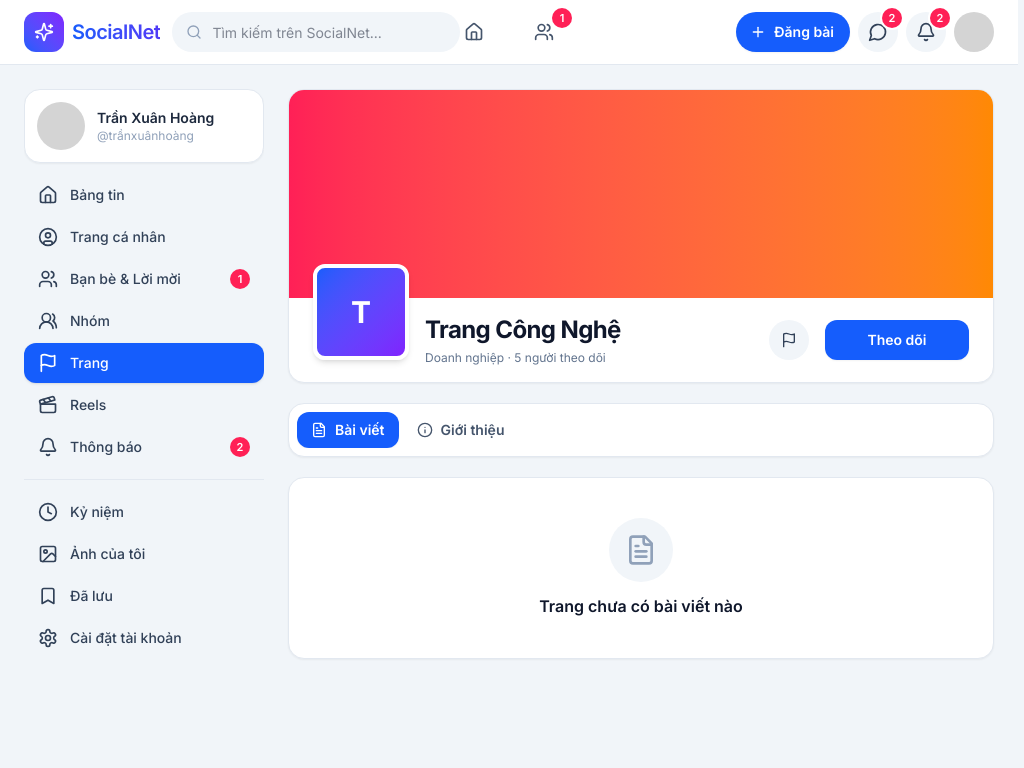
Test: Trang — người xem thường › theo dõi thất bại → toast lỗi, nút không đổi
What coordinates should you click on to do the following:
click the button "Theo dõi"
I would click on:
 (897, 340)
Its box is 825,320 -> 969,360.
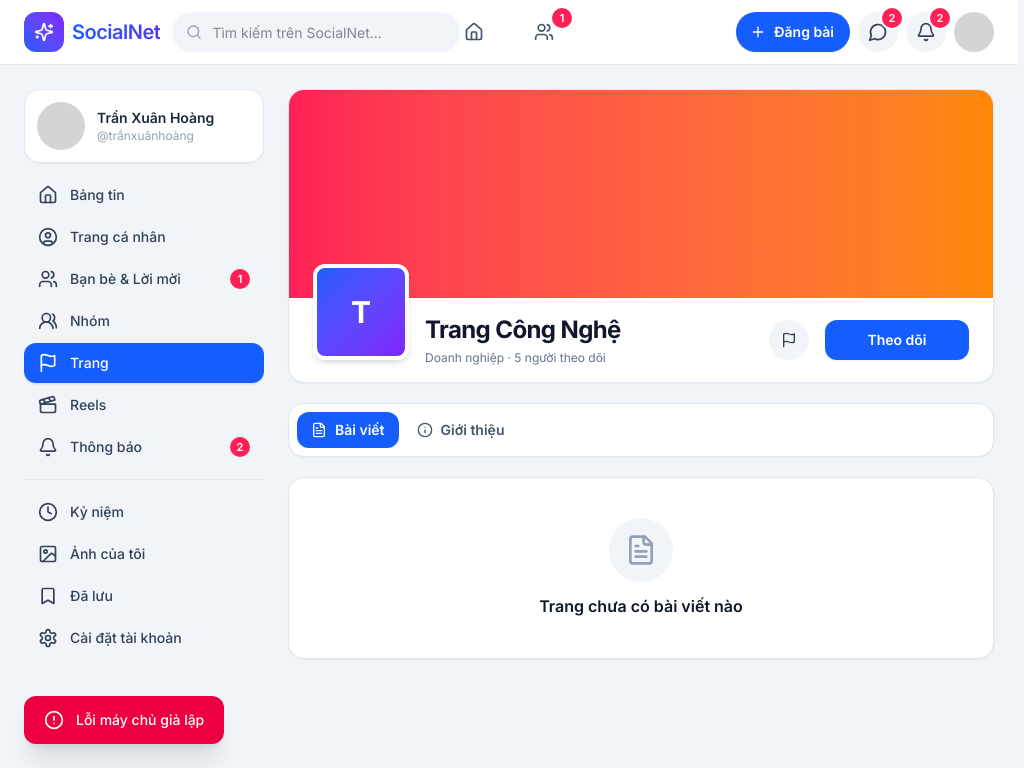
Expected: the message reads "Lỗi máy chủ giả lập", 76,711 -> 204,728
